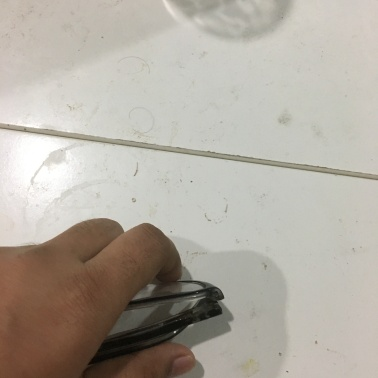glasses: (80, 274, 224, 359)
